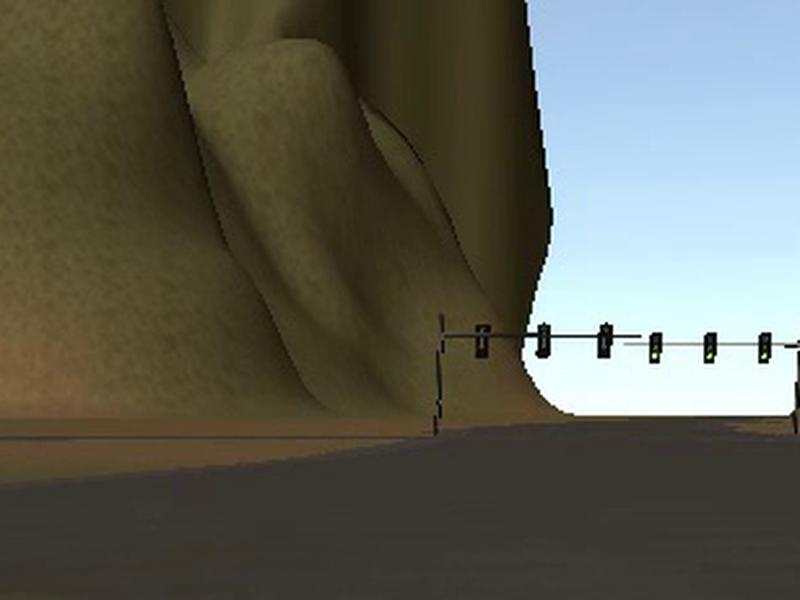Green: (757, 332, 772, 364), (702, 332, 717, 362), (648, 332, 661, 363)
